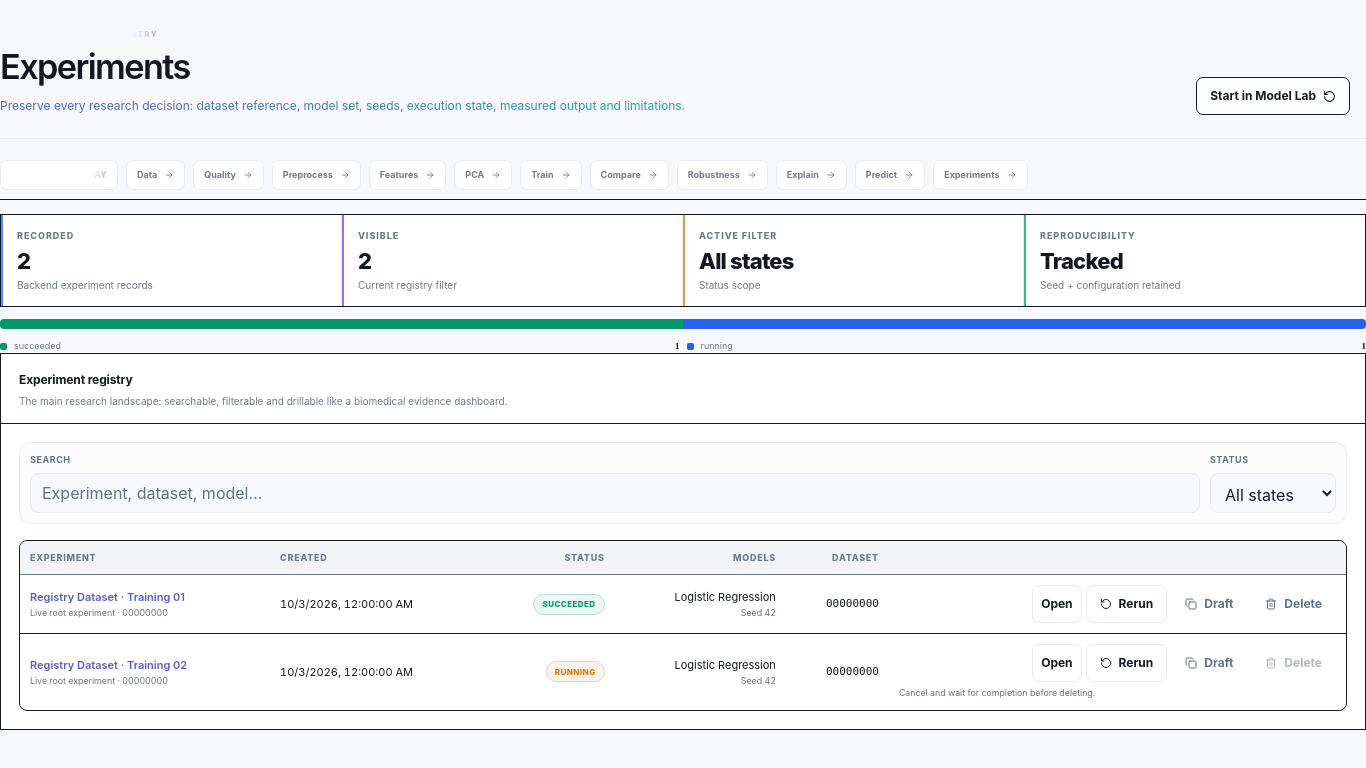
Test: experiment registry lifecycle › confirms deletion, protects running work, refreshes immediately, and reaches empty state
The width and height of the screenshot is (1366, 768).
Expected: the button "Registry Dataset · Training 01" is shown, [30, 590, 185, 606]
Expected: the 2nd button "Delete" is disabled, [1251, 644, 1336, 682]
Click the 1st button "Delete". click: {"x": 1294, "y": 604}
box: [1251, 585, 1336, 623]
(page scrolled)
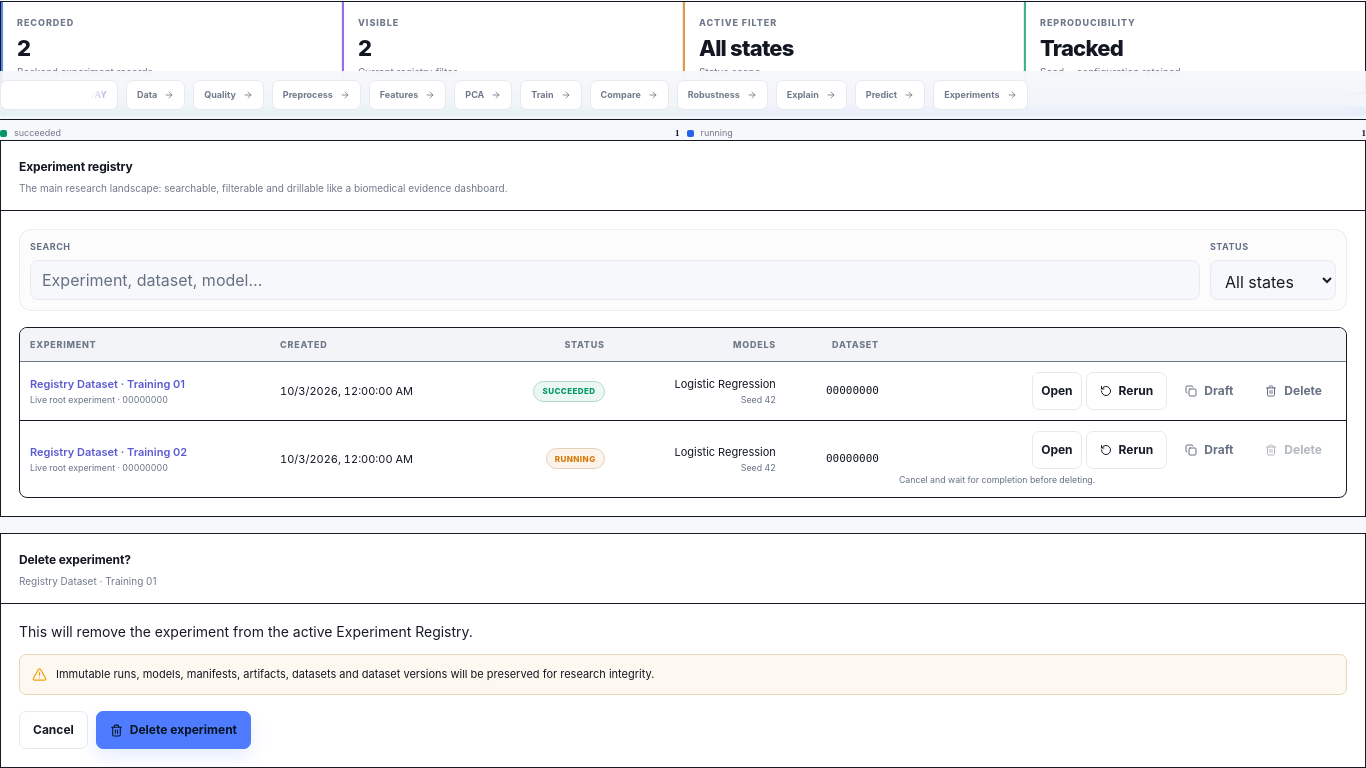
Result: the heading "Delete experiment?" is shown at [19, 552, 131, 566]
Click the button "Cancel". click: {"x": 53, "y": 730}
box: [19, 711, 88, 749]
(page scrolled)
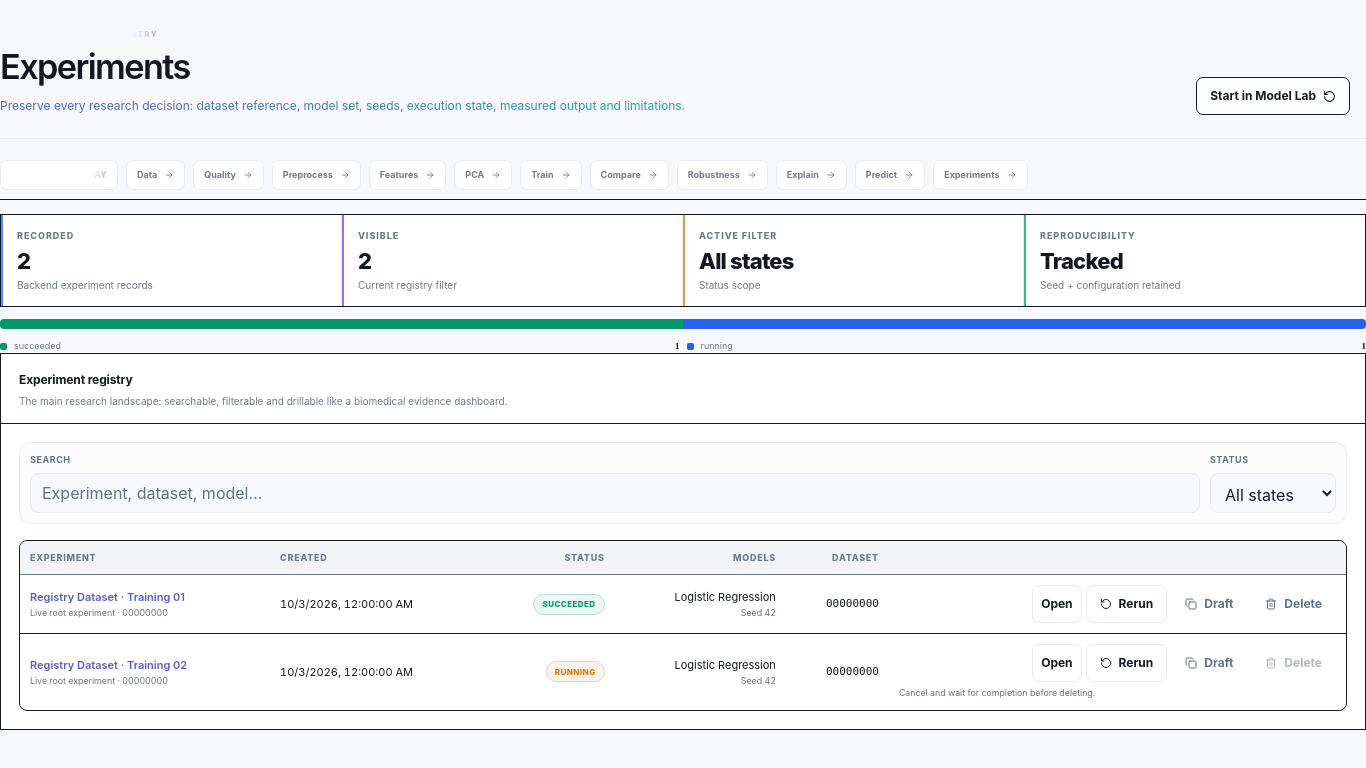
Result: the heading "Delete experiment?" is gone
Click the 1st button "Delete". click: {"x": 1294, "y": 604}
box: [1251, 585, 1336, 623]
(page scrolled)
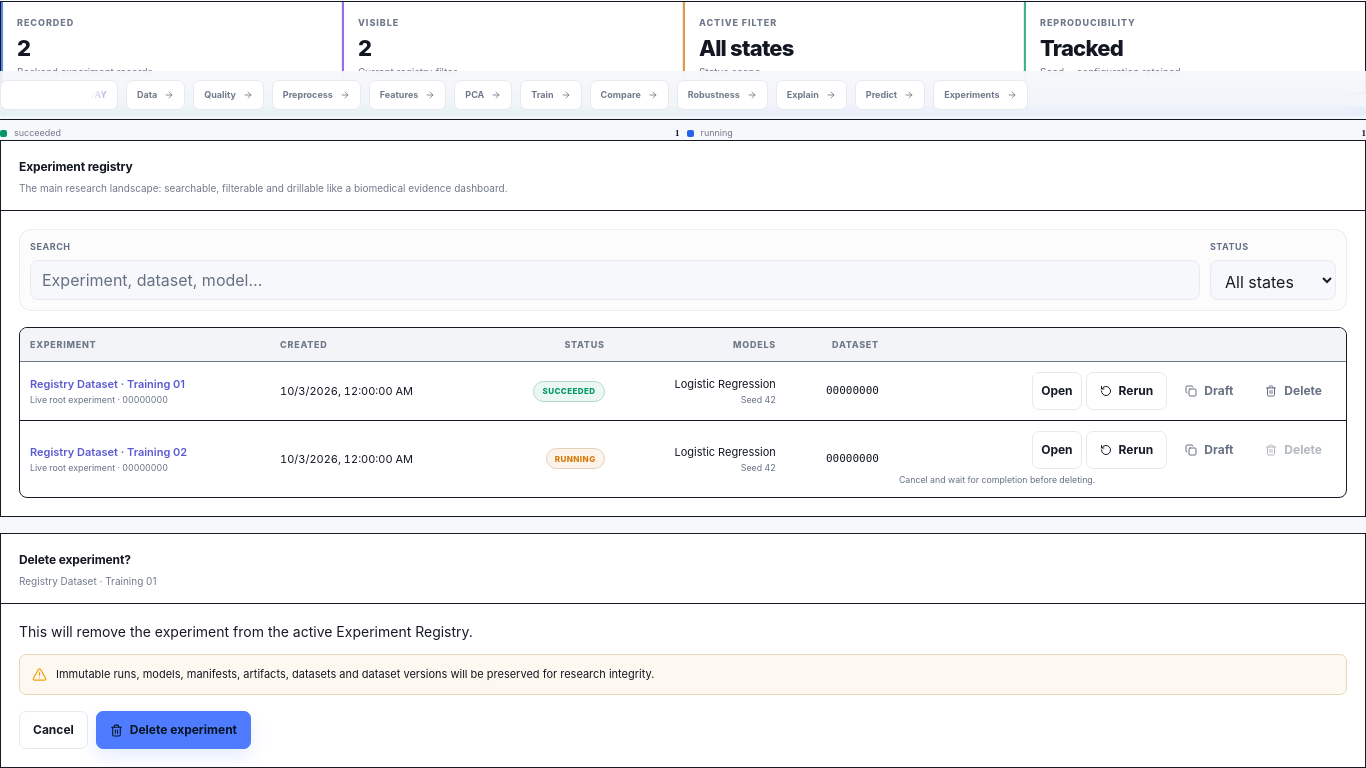
Click the button "Delete experiment". click: {"x": 173, "y": 730}
box: [96, 711, 251, 749]
(page scrolled)
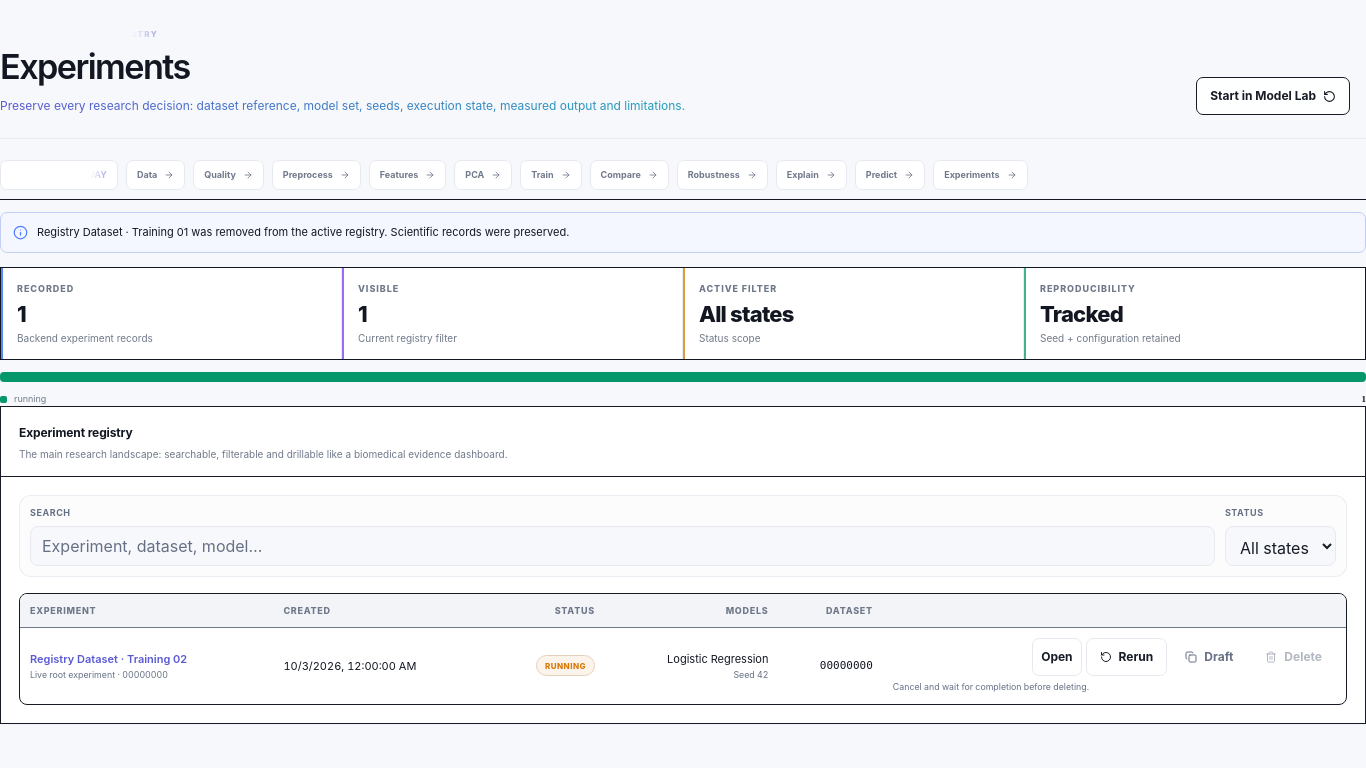
Expected: the button "Registry Dataset · Training 02" is shown, [30, 651, 187, 668]
Result: the text "was removed from the active registry" is shown at [37, 225, 569, 239]
